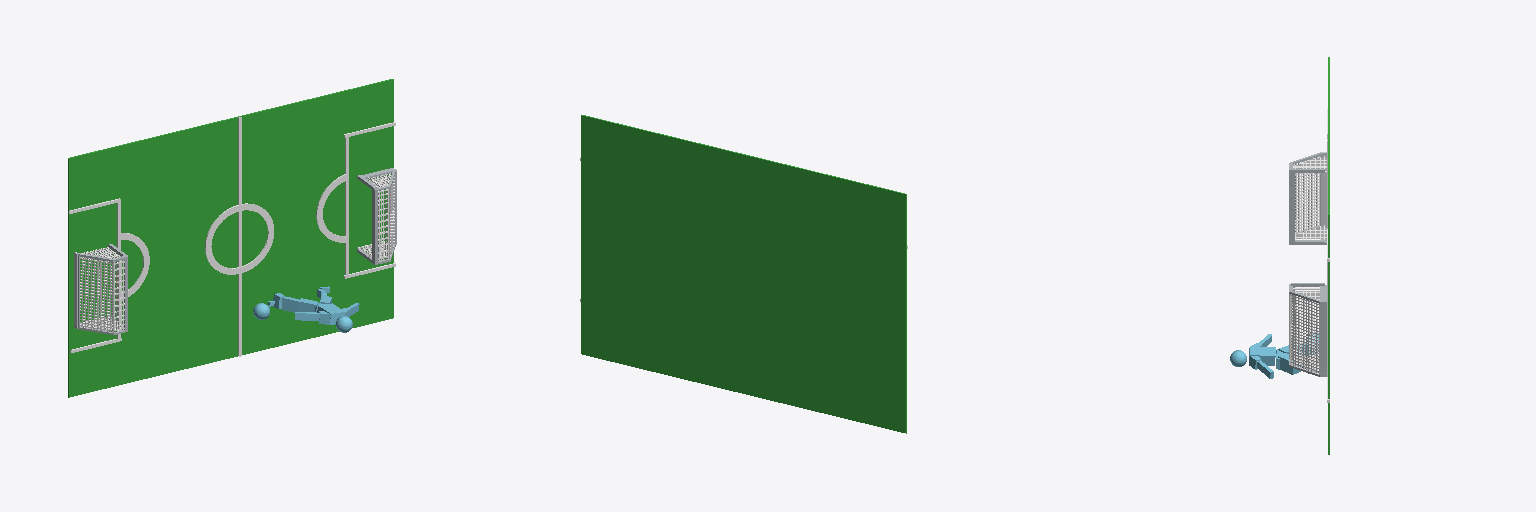
File: tinker.obj
3 renders of one model, left to right at view 1: azimuth 30°, elevation 25°; view 2: azimuth 150°, elevation 25°; view 3: azimuth 270°, elevation 25°, orthographic.
Visible parts, largest first — view 1: obj_0; view 2: obj_0; view 3: obj_0.
Part boxes in pixels (bbox=[...]): obj_0: bbox=[68, 79, 396, 397]; obj_0: bbox=[580, 115, 907, 433]; obj_0: bbox=[1230, 57, 1329, 454].
Size of the model in its own units: 223 by 156 by 59.03.